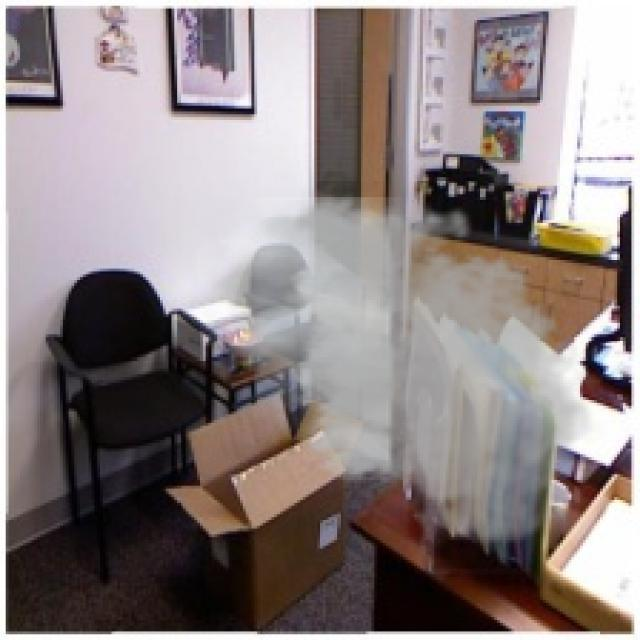Smoke: (197, 183, 609, 552)
